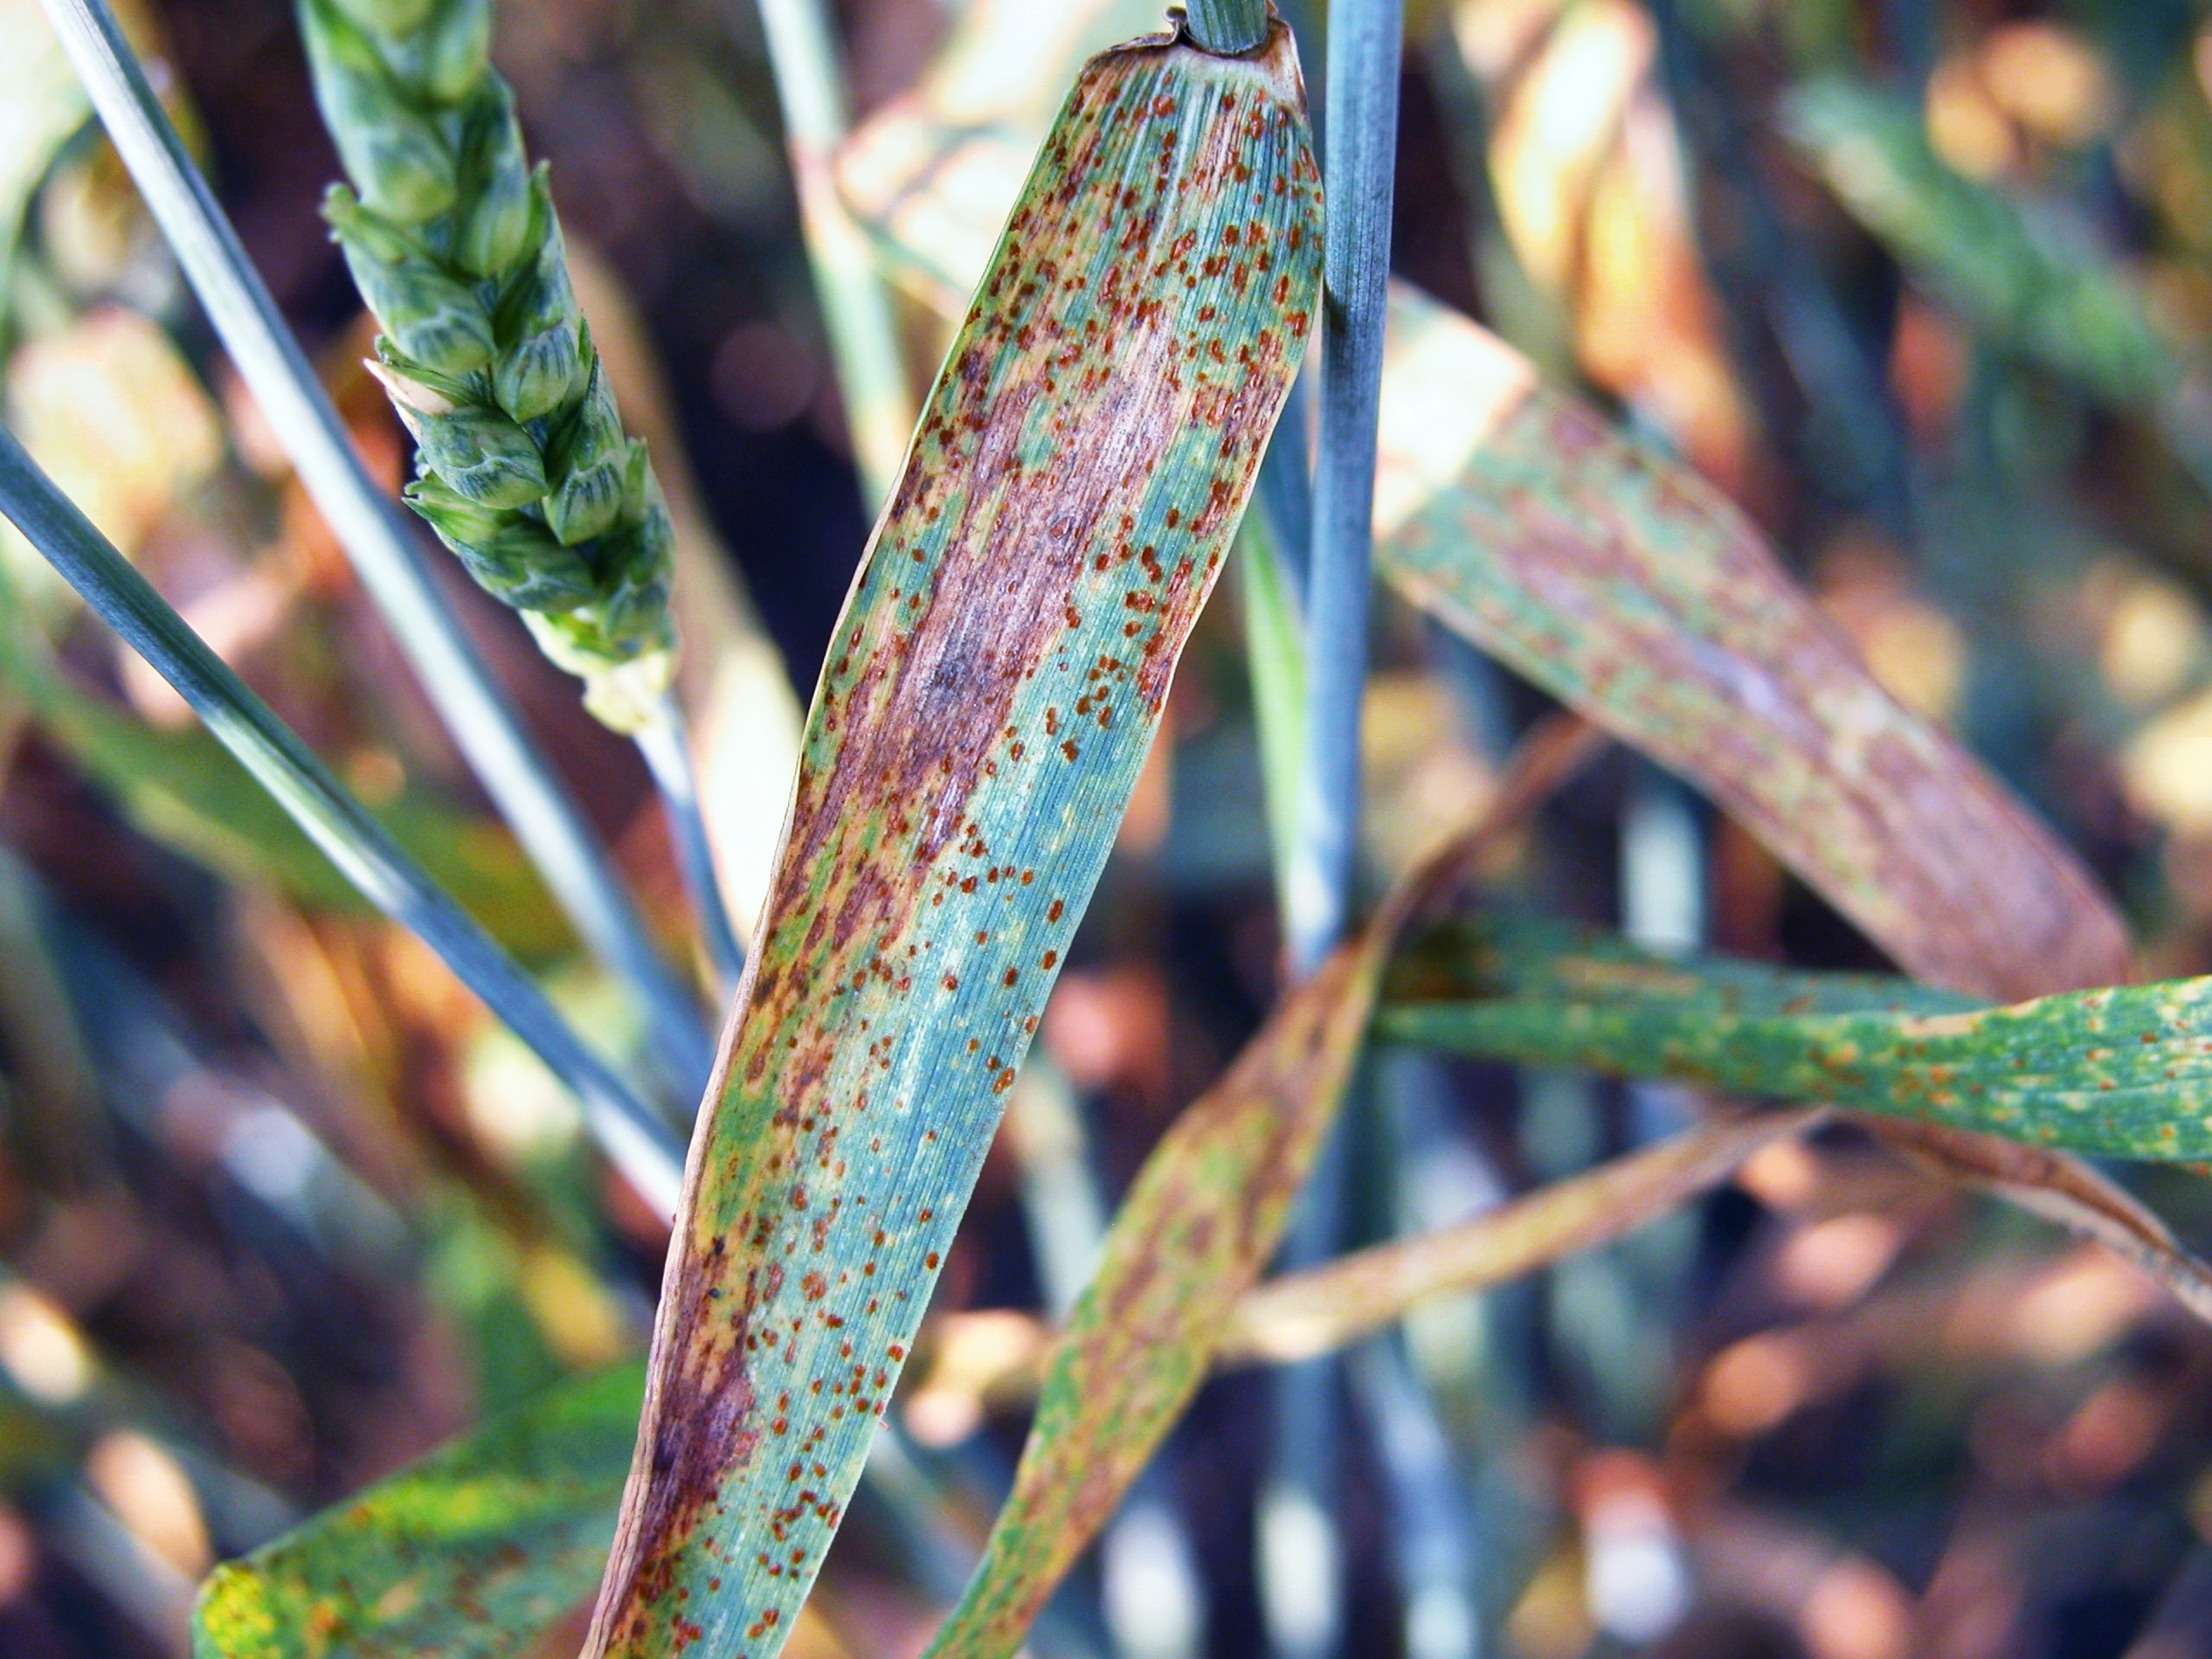Leaf Rust: (695, 103, 1318, 1368)
